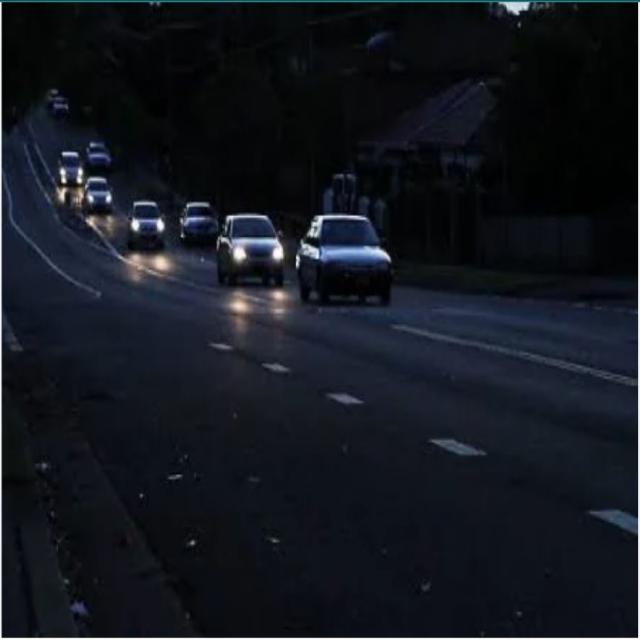headlights: (227, 240, 289, 270), (128, 215, 169, 237), (83, 190, 119, 209)
